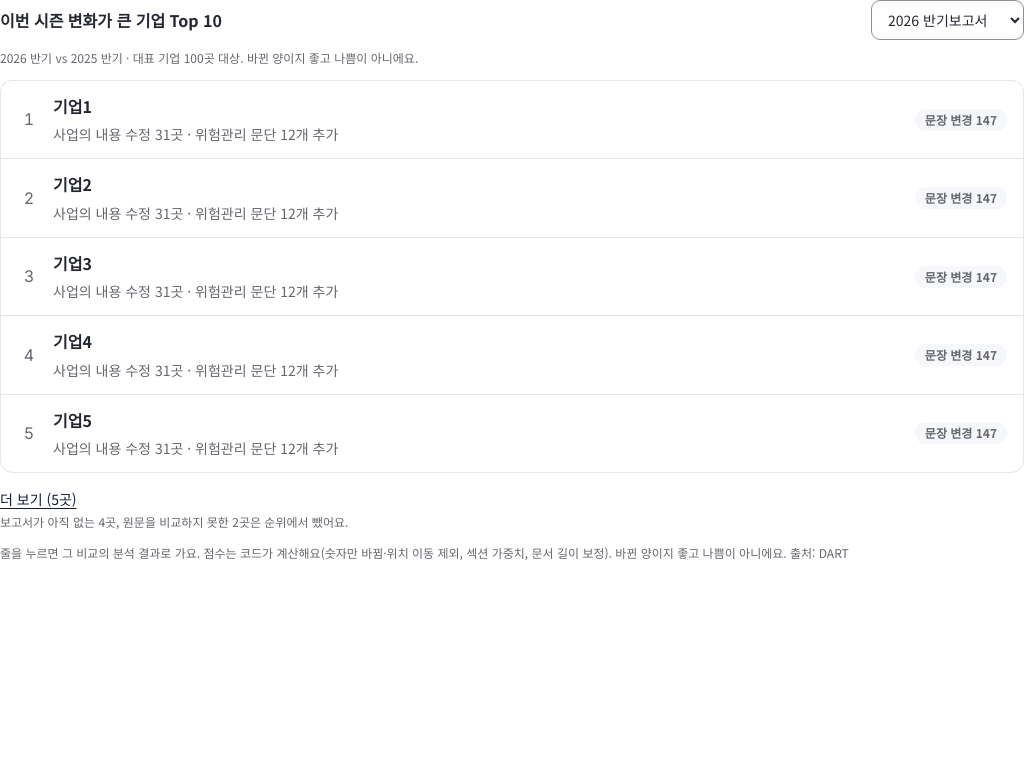
Test: SeasonChanges › 처음엔 5위까지 보이고 더 보기로 10위까지 펼친다
Expected: the number of list items is 5, [1, 81, 1023, 159]; [1, 159, 1023, 238]; [1, 238, 1023, 316]; [1, 316, 1023, 395]; [1, 395, 1023, 472]
Click the button "더 보기 (5곳)": point(38, 500) [0, 488, 77, 511]
(page scrolled)
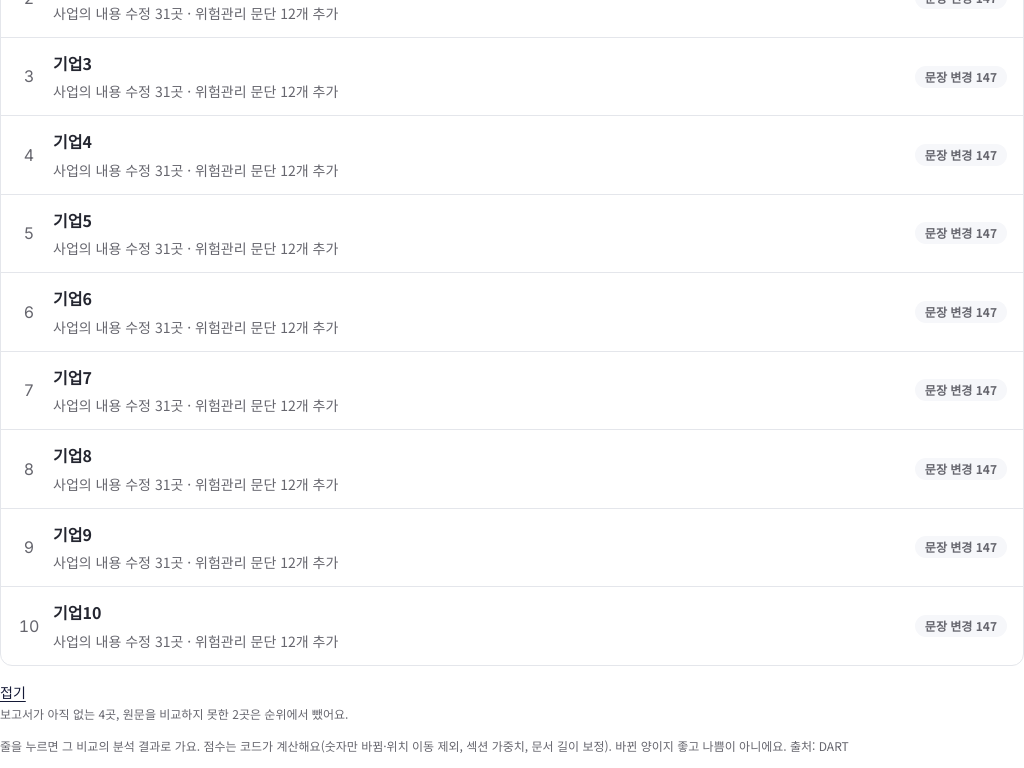
Result: the number of list items is 10
Result: the button "접기" is expanded at [0, 681, 26, 704]
